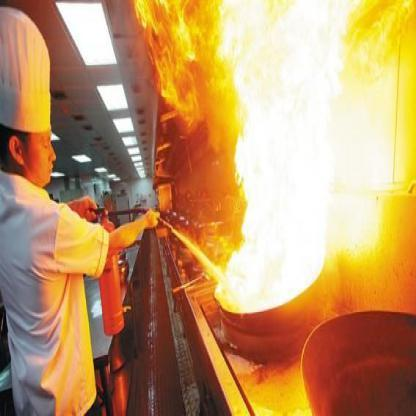fire: (234, 92, 331, 232), (220, 0, 358, 97), (136, 0, 219, 106), (224, 229, 324, 301), (357, 0, 413, 93)
